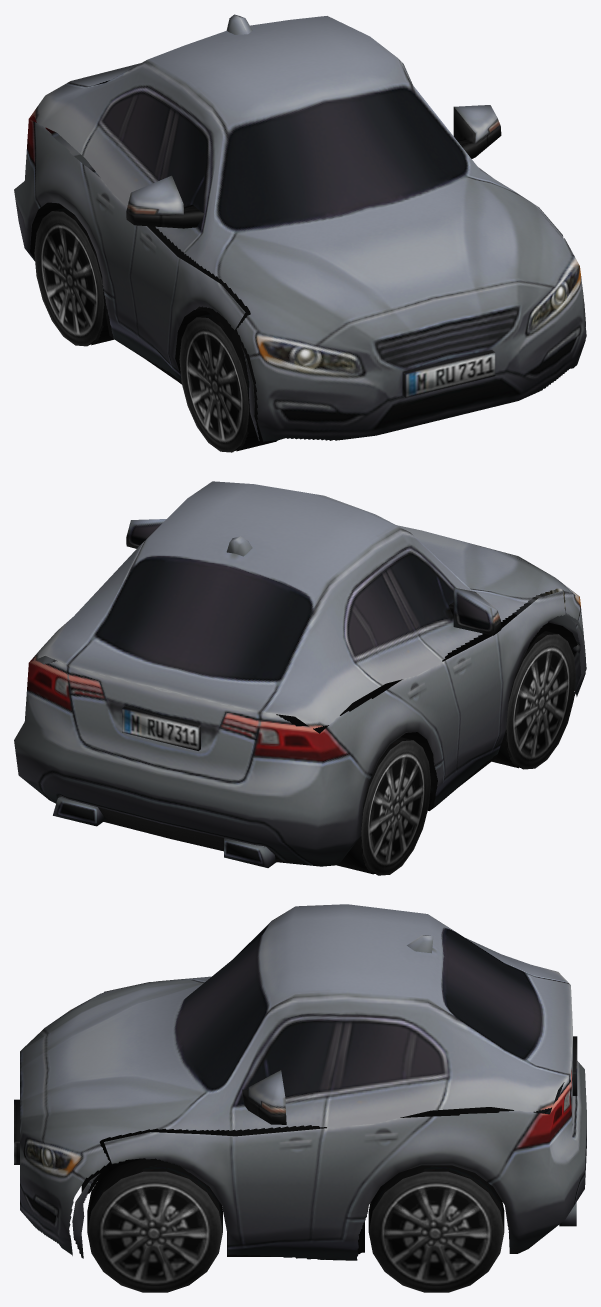
The model's file is TCZ_MS_08.FBX.
3 views of the same model, one above another, from view 1: azimuth 30°, elevation 25°; view 2: azimuth 150°, elevation 25°; view 3: azimuth 270°, elevation 25° (orthographic). The views are drawn at different scales.
Parts seen in each view (by area): view 1: TCZ_MS_08; view 2: TCZ_MS_08; view 3: TCZ_MS_08.
Boxes of the visible parts, x1,y1,x2,y2 form: TCZ_MS_08: (14,14,586,452); TCZ_MS_08: (14,481,586,875); TCZ_MS_08: (14,904,586,1292).
Bounding box in the file's own units: 86.89 × 65.13 × 121.
